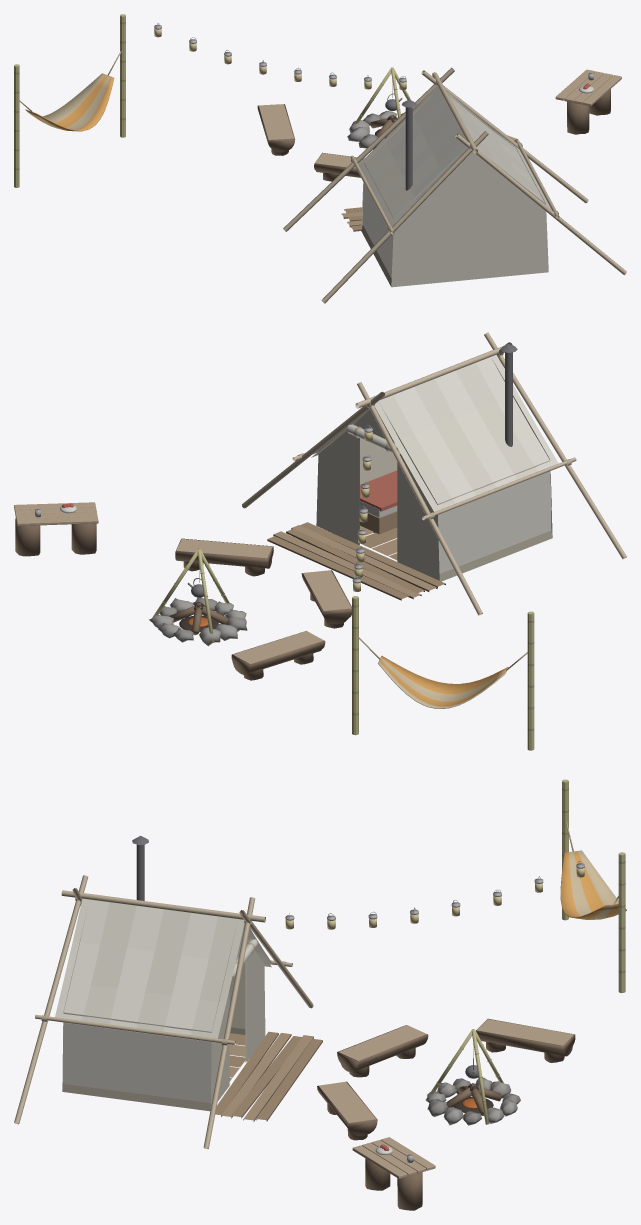
Rendered from camp_picked_lm.glb.
The picture shows the model from 3 angles, top to bottom: view 1: azimuth 30°, elevation 25°; view 2: azimuth 150°, elevation 25°; view 3: azimuth 270°, elevation 25°; orthographic projection. The views are drawn at different scales.
Parts seen in each view (by area): view 1: Tent, Hammock, Table, Fire, Seat_2, Seat_1; view 2: Tent, Hammock, Fire, Table, Seat_2, Seat_0, Seat_1; view 3: Tent, Hammock, Fire, Table, Seat_2, Seat_1, Seat_0.
Boxes of the visible parts, left/top/right/bottom form: Tent: left=283, top=67, right=626, bottom=303; Hammock: left=14, top=14, right=125, bottom=187; Table: left=555, top=69, right=621, bottom=134; Fire: left=347, top=67, right=410, bottom=149; Seat_2: left=257, top=104, right=295, bottom=155; Seat_1: left=314, top=152, right=363, bottom=181; Tent: left=242, top=332, right=626, bottom=615; Hammock: left=352, top=596, right=534, bottom=750; Fire: left=149, top=548, right=247, bottom=646; Table: left=14, top=502, right=98, bottom=556; Seat_2: left=231, top=631, right=325, bottom=680; Seat_0: left=175, top=538, right=273, bottom=576; Seat_1: left=301, top=570, right=351, bottom=628; Tent: left=14, top=835, right=322, bottom=1148; Hammock: left=560, top=779, right=626, bottom=992; Fire: left=425, top=1029, right=520, bottom=1125; Table: left=352, top=1137, right=435, bottom=1210; Seat_2: left=476, top=1018, right=575, bottom=1062; Seat_1: left=337, top=1025, right=428, bottom=1077; Seat_0: left=317, top=1081, right=377, bottom=1140.
Size of the model in its own units: 11.09 by 3.52 by 9.67.
